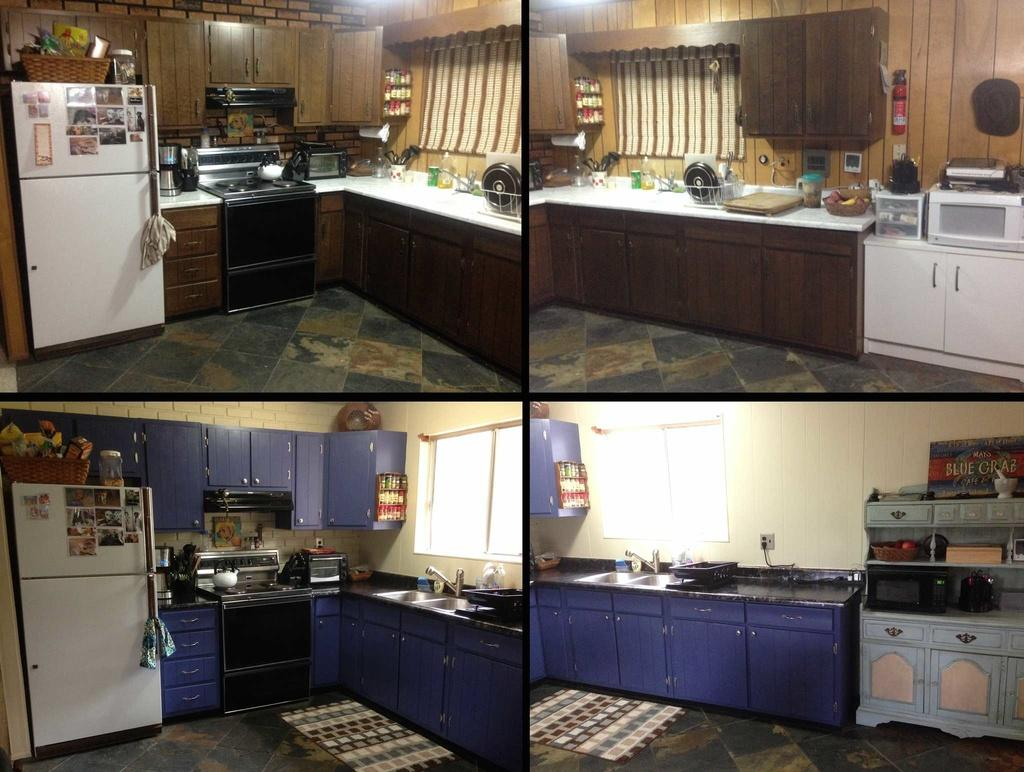cabinet_door: (752, 630, 834, 716), (148, 422, 202, 532), (146, 23, 200, 130), (669, 625, 747, 699), (924, 642, 999, 718), (450, 655, 510, 740), (414, 239, 468, 326), (568, 608, 619, 688), (333, 32, 377, 120), (328, 442, 374, 526), (482, 282, 524, 373), (356, 220, 406, 292), (397, 635, 435, 728), (867, 646, 924, 708), (299, 24, 333, 124), (620, 616, 663, 692), (292, 434, 324, 528), (364, 625, 398, 710), (206, 430, 254, 490), (207, 24, 253, 82), (252, 19, 295, 80), (250, 433, 292, 494), (748, 604, 834, 632), (456, 632, 518, 670), (674, 598, 748, 626), (319, 216, 349, 284), (319, 618, 344, 694), (932, 626, 1003, 652), (866, 618, 926, 646), (163, 681, 220, 710), (166, 282, 220, 311), (162, 632, 216, 658), (168, 228, 217, 256), (342, 618, 360, 694), (868, 505, 930, 526), (167, 655, 217, 681), (1005, 656, 1024, 724), (166, 609, 216, 632), (167, 261, 219, 282), (930, 505, 962, 523), (989, 502, 1011, 525), (961, 504, 987, 523), (1007, 627, 1024, 652), (1014, 501, 1024, 526)
handle: (135, 480, 157, 572), (140, 566, 162, 641), (140, 87, 158, 172), (146, 177, 162, 247), (478, 634, 500, 660), (781, 609, 807, 627), (690, 602, 716, 618), (189, 509, 205, 533), (175, 637, 199, 652), (179, 662, 199, 680), (182, 688, 202, 706), (958, 628, 978, 645), (882, 626, 904, 641), (239, 55, 253, 76), (238, 468, 252, 488), (887, 506, 909, 518), (748, 625, 763, 642), (598, 610, 614, 624), (180, 613, 198, 625), (297, 511, 308, 530), (252, 58, 263, 76), (733, 626, 744, 642), (614, 610, 624, 627), (252, 475, 265, 488)
